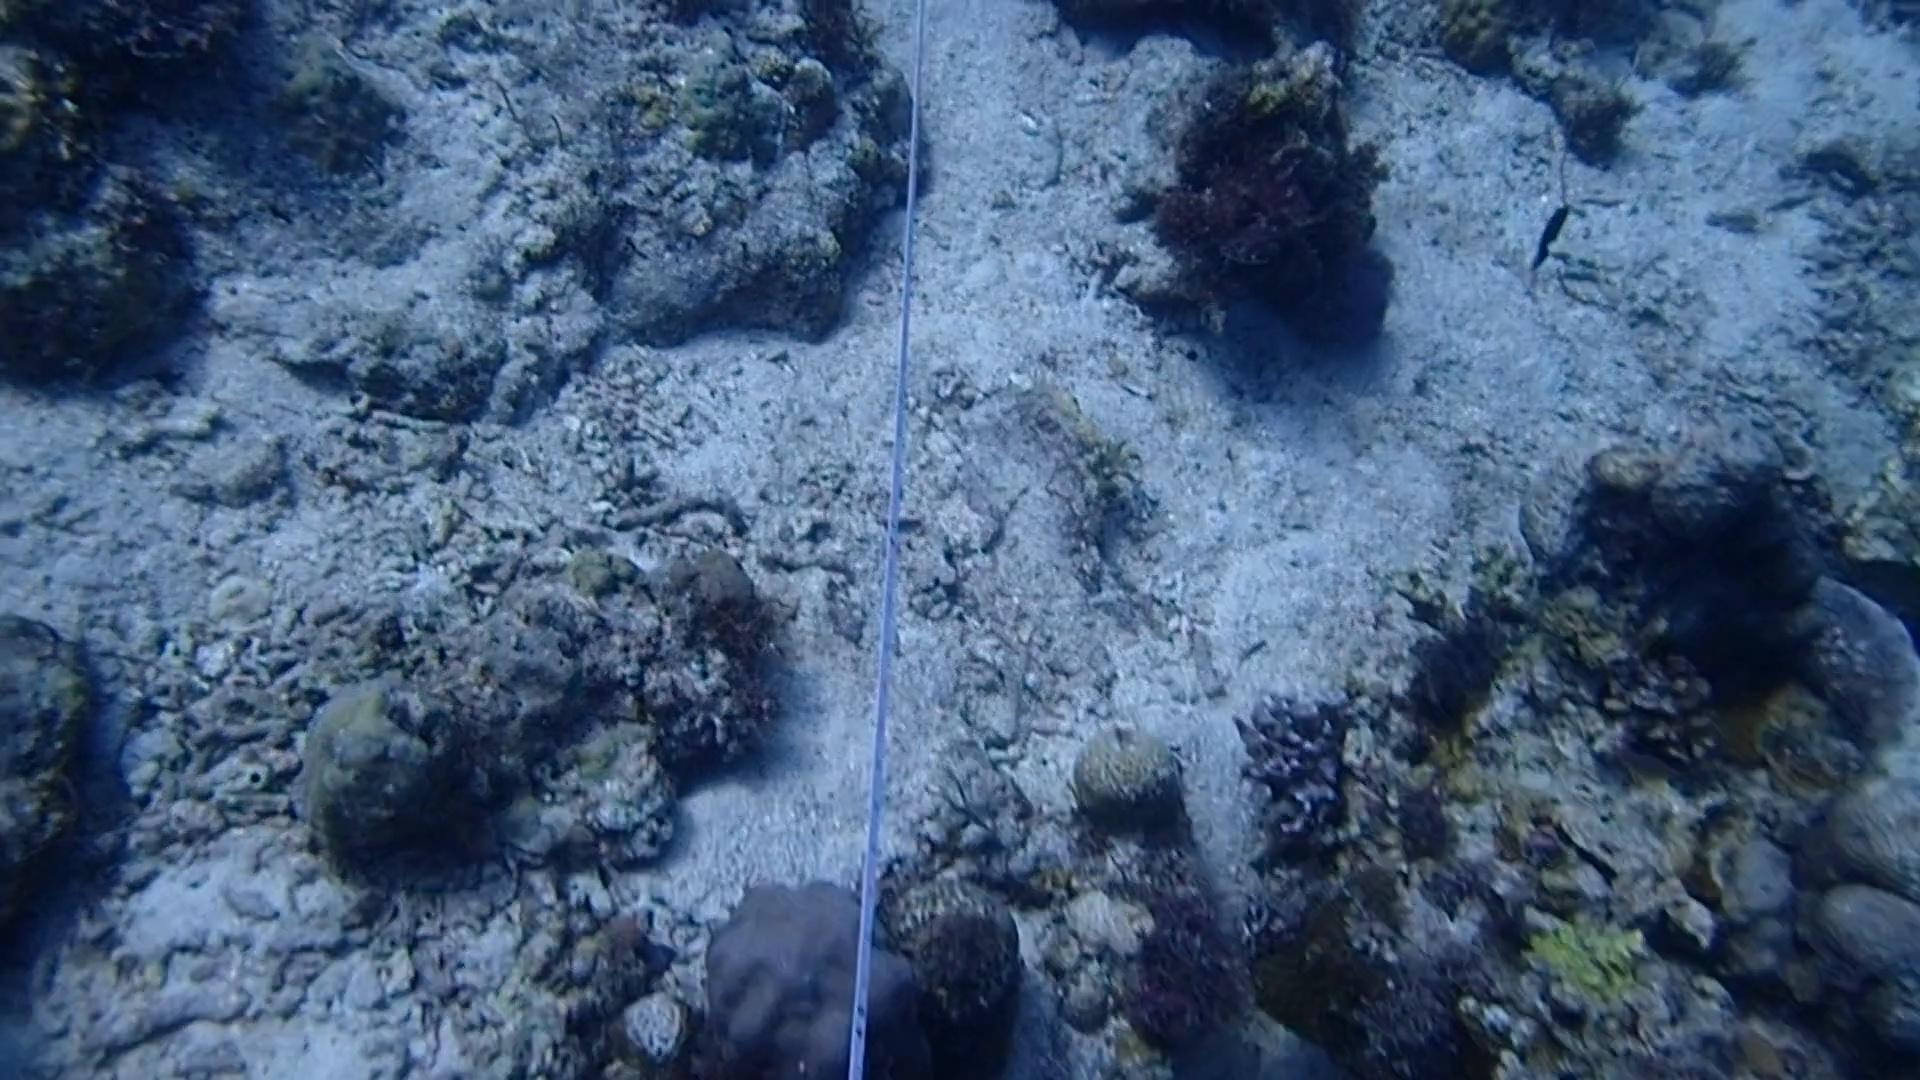Dark Fish: (1518, 193, 1582, 277)
